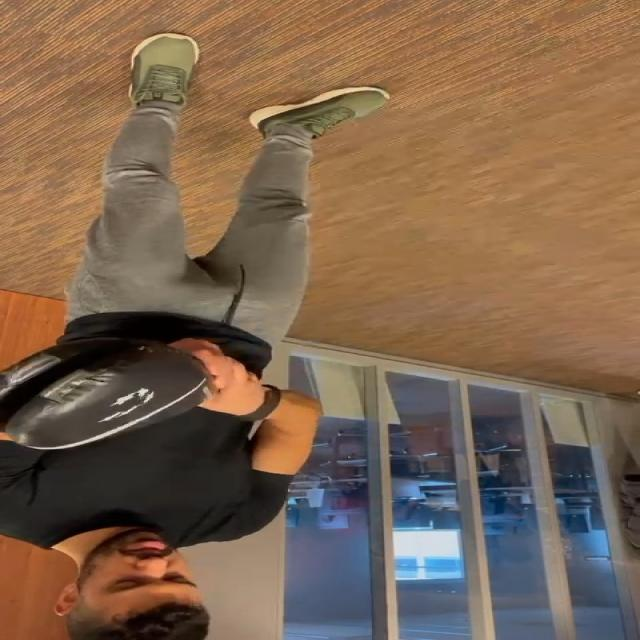paddle: (0, 344, 195, 445)
